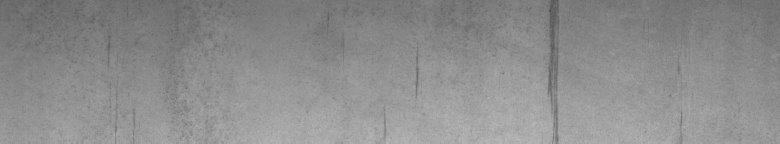hd: (544, 4, 561, 136)
